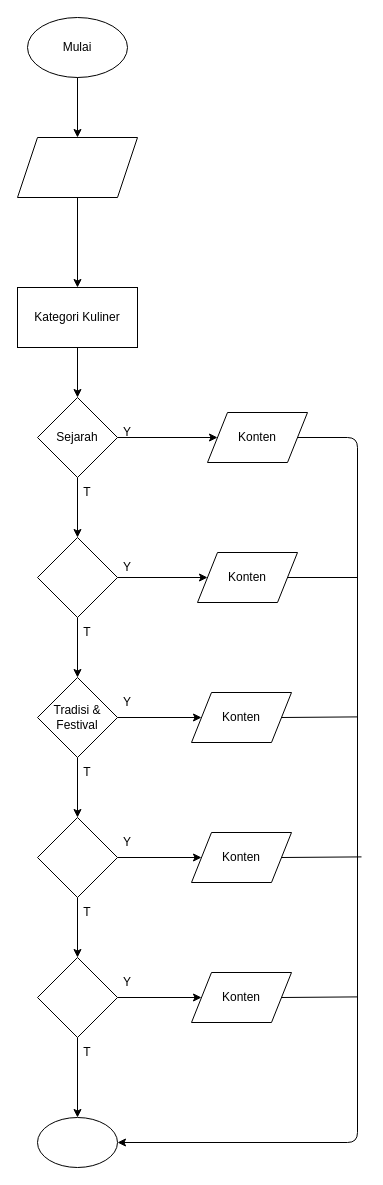
Image size: 383x1185. Some labels were removed from this diagram. The shapes that lost their labels are listed below. From the top down, each one's centre as x and y in pixels, then its label:
At (77,167): "Halaman awal".
At (77,577): "Kuliner".
At (77,857): "Data Penjual".
At (77,997): "Cerita Ku".
At (77,1142): "Selesai".
